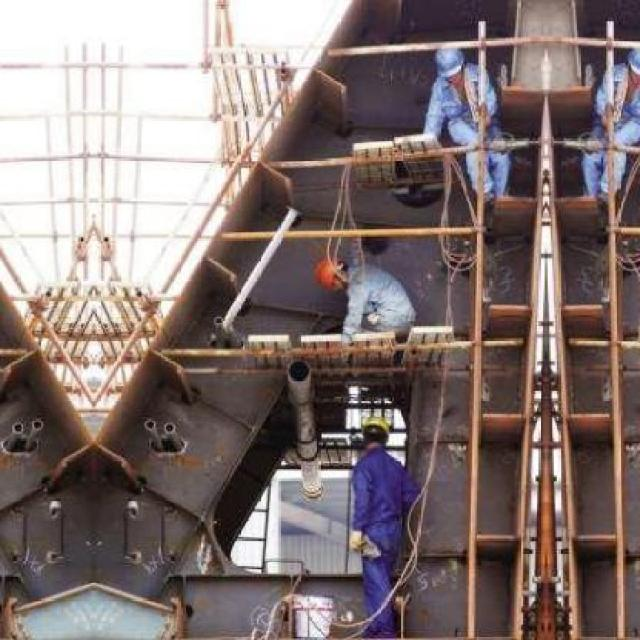helmet: (431, 43, 467, 89), (357, 412, 397, 450), (312, 257, 352, 291), (622, 43, 638, 91)
